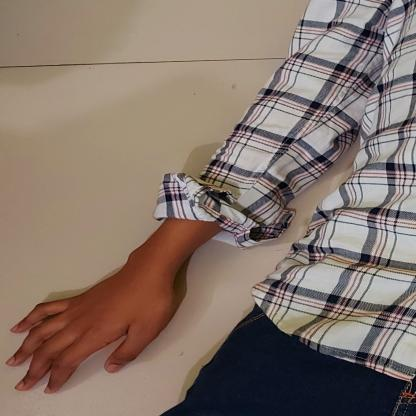hand: (7, 182, 188, 401)
